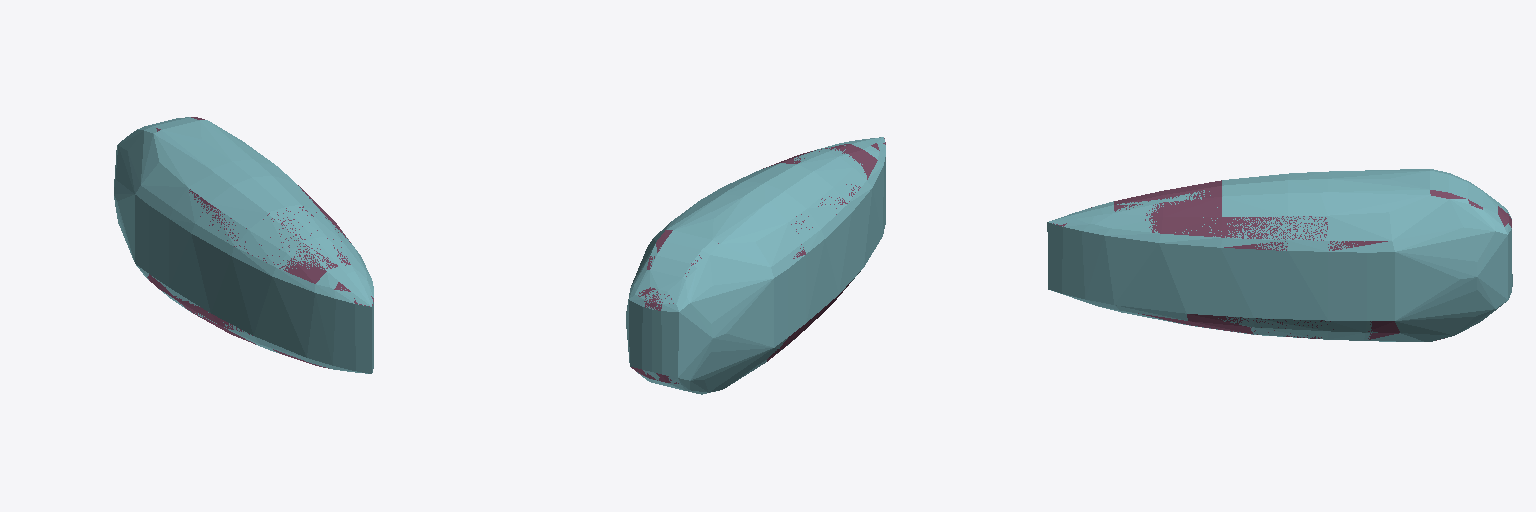
3 renders of one model, left to right at view 1: azimuth 30°, elevation 25°; view 2: azimuth 150°, elevation 25°; view 3: azimuth 270°, elevation 25°, orthographic.
Parts seen in each view (by area): view 1: ship_dooku_physics, ship_dooku; view 2: ship_dooku_physics, ship_dooku; view 3: ship_dooku_physics, ship_dooku.
Part boxes in pixels (x1,y1,x2,y2): ship_dooku_physics: (114, 117, 373, 373); ship_dooku: (147, 117, 373, 368); ship_dooku_physics: (626, 137, 885, 394); ship_dooku: (631, 138, 885, 383); ship_dooku_physics: (1047, 169, 1512, 341); ship_dooku: (1053, 180, 1511, 340).
Size of the model in its own units: 222 by 258 by 703.